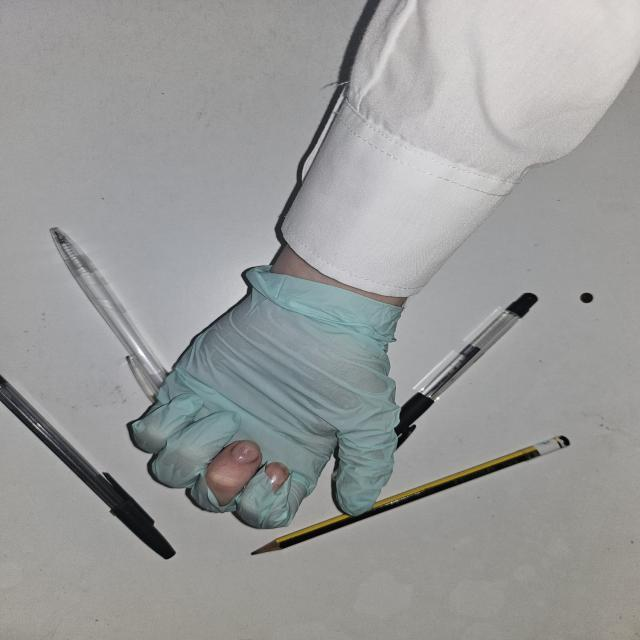gloves_damaged: (126, 262, 406, 527)
